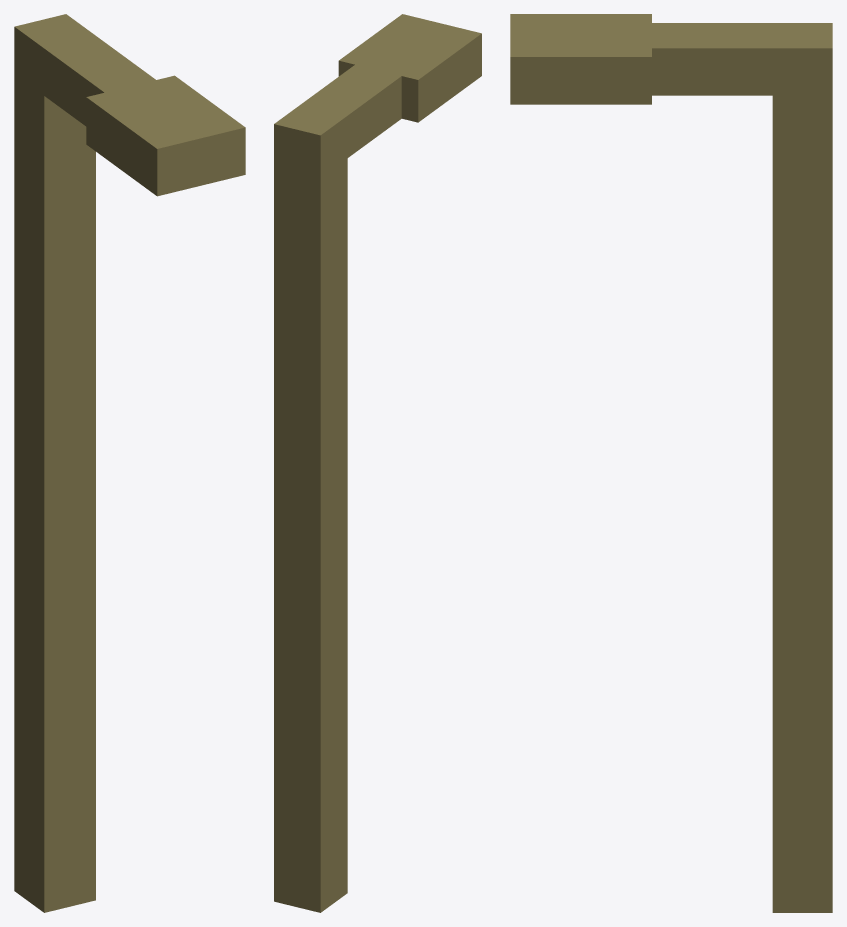
File: Streetlight.fbx
3 renders of one model, left to right at view 1: azimuth 30°, elevation 25°; view 2: azimuth 150°, elevation 25°; view 3: azimuth 270°, elevation 25°, orthographic. The views are drawn at different scales.
Visible parts, largest first — view 1: Cube.001; view 2: Cube.001; view 3: Cube.001.
Boxes of the visible parts, bbox=[...] form: Cube.001: bbox=[14, 14, 245, 912]; Cube.001: bbox=[274, 14, 481, 912]; Cube.001: bbox=[510, 14, 832, 912].
Bounding box in the file's own units: 75.5 × 706 × 238.
